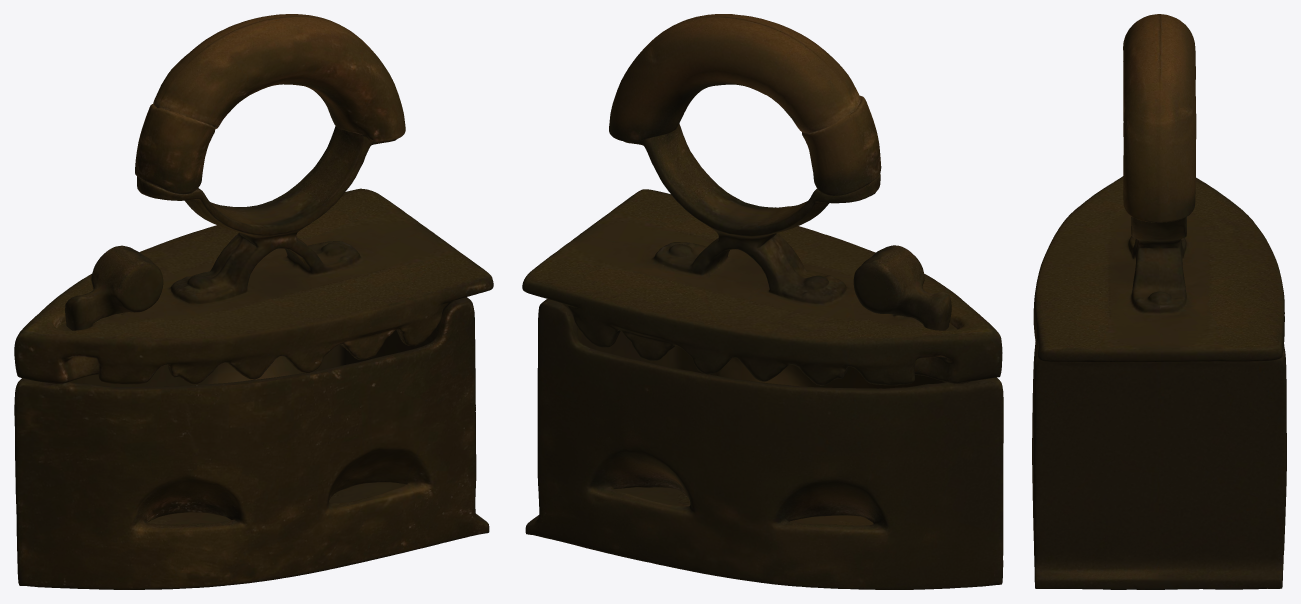
File: pegla.glb
The picture shows the model from 3 angles, left to right: view 1: azimuth 30°, elevation 25°; view 2: azimuth 150°, elevation 25°; view 3: azimuth 270°, elevation 25°; orthographic projection. The views are drawn at different scales.
Size of the model in its own units: 1.66 by 1.9 by 0.9038.
1 material, 1 textured.
